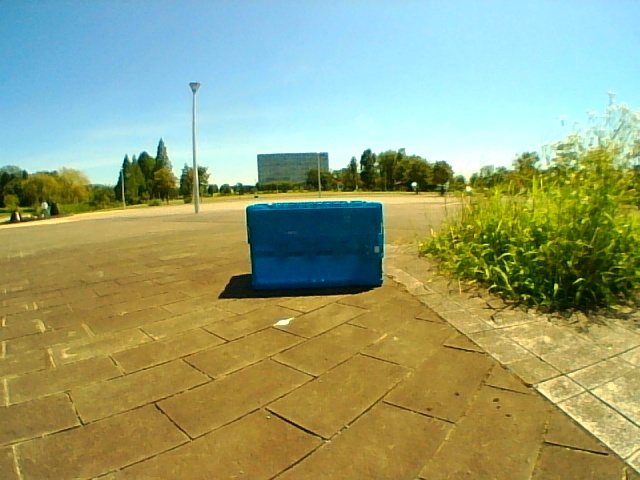blue_box: (252, 203, 383, 285)
